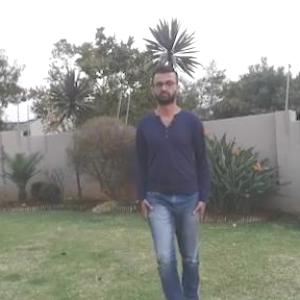follow: (140, 65, 208, 299)
